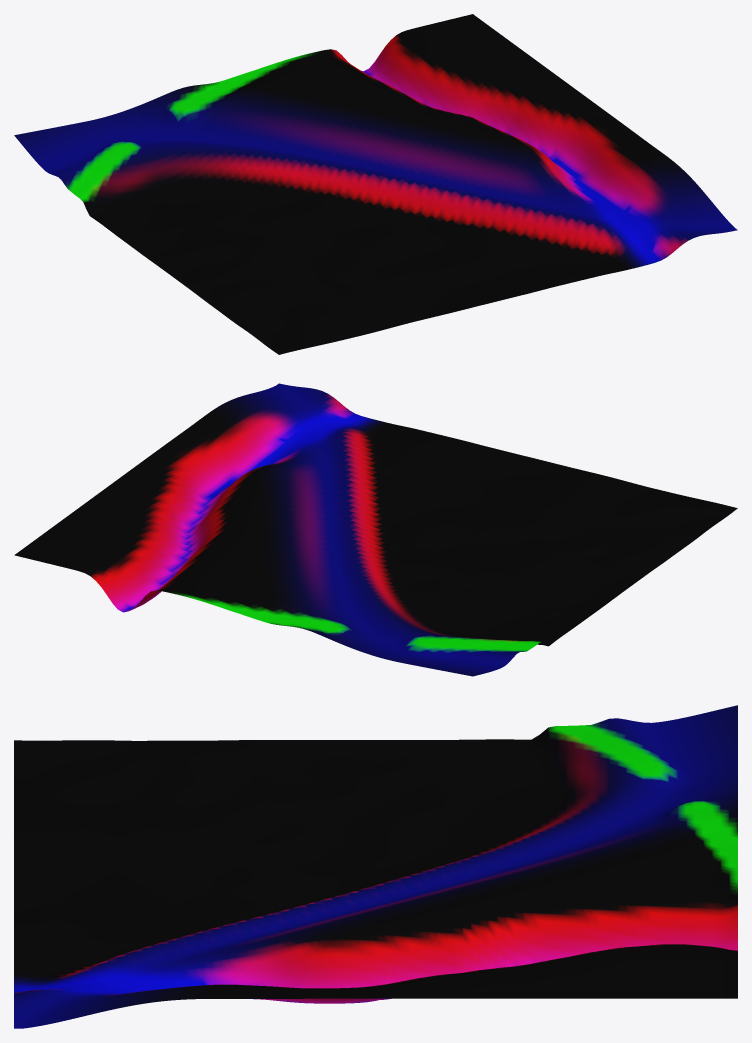
File: SM_FutureCity_Terrain_0_2.fbx
3 views of the same model, one above another, from view 1: azimuth 30°, elevation 25°; view 2: azimuth 150°, elevation 25°; view 3: azimuth 270°, elevation 25° (orthographic). The views are drawn at different scales.
Parts seen in each view (by area): view 1: SM_FutureCity_Terrain_0_2; view 2: SM_FutureCity_Terrain_0_2; view 3: SM_FutureCity_Terrain_0_2.
Boxes of the visible parts, x1,y1,x2,y2 form: SM_FutureCity_Terrain_0_2: [14, 14, 737, 354]; SM_FutureCity_Terrain_0_2: [14, 383, 737, 676]; SM_FutureCity_Terrain_0_2: [14, 705, 737, 1028].
Size of the model in its own units: 50400 by 3823 by 50400.
